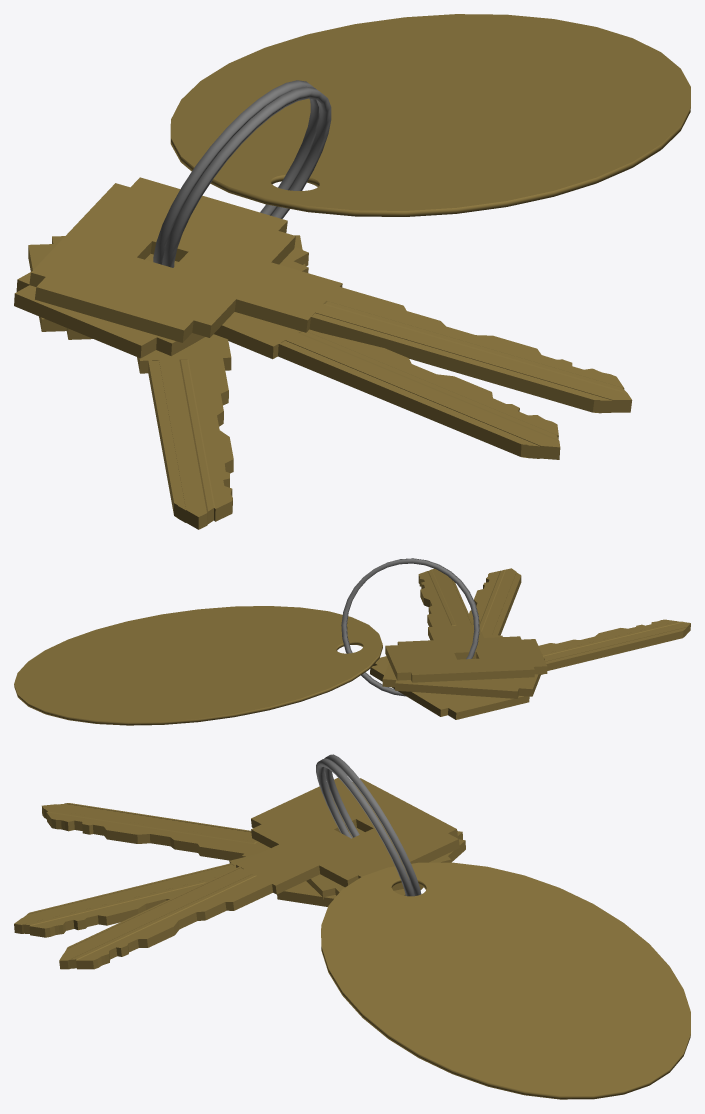
File: keys.obj
3 renders of one model, top to bottom at view 1: azimuth 30°, elevation 25°; view 2: azimuth 150°, elevation 25°; view 3: azimuth 270°, elevation 25°, orthographic. The views are drawn at different scales.
Visible parts, largest first — view 1: chain-last_Circle.002, key3_Plane.002, key2_Plane.001, key_Plane, chain_Circle; view 2: chain-last_Circle.002, key3_Plane.002, key_Plane, key2_Plane.001, chain_Circle; view 3: chain-last_Circle.002, key3_Plane.002, key_Plane, key2_Plane.001, chain_Circle.
Boxes of the visible parts, bbox=[...] form: chain-last_Circle.002: bbox=[170, 14, 690, 216]; key3_Plane.002: bbox=[29, 177, 632, 413]; key2_Plane.001: bbox=[14, 247, 560, 459]; key_Plane: bbox=[28, 235, 305, 529]; chain_Circle: bbox=[153, 80, 331, 267]; chain-last_Circle.002: bbox=[14, 606, 382, 725]; key3_Plane.002: bbox=[385, 568, 547, 682]; key_Plane: bbox=[370, 619, 690, 719]; key2_Plane.001: bbox=[382, 568, 544, 698]; chain_Circle: bbox=[341, 558, 479, 696]; chain-last_Circle.002: bbox=[321, 862, 690, 1099]; key3_Plane.002: bbox=[59, 778, 459, 969]; key_Plane: bbox=[42, 803, 465, 906]; key2_Plane.001: bbox=[14, 828, 451, 937]; chain_Circle: bbox=[316, 754, 421, 896].
Bounding box in the file's own units: 11.53 × 2.85 × 11.42.
